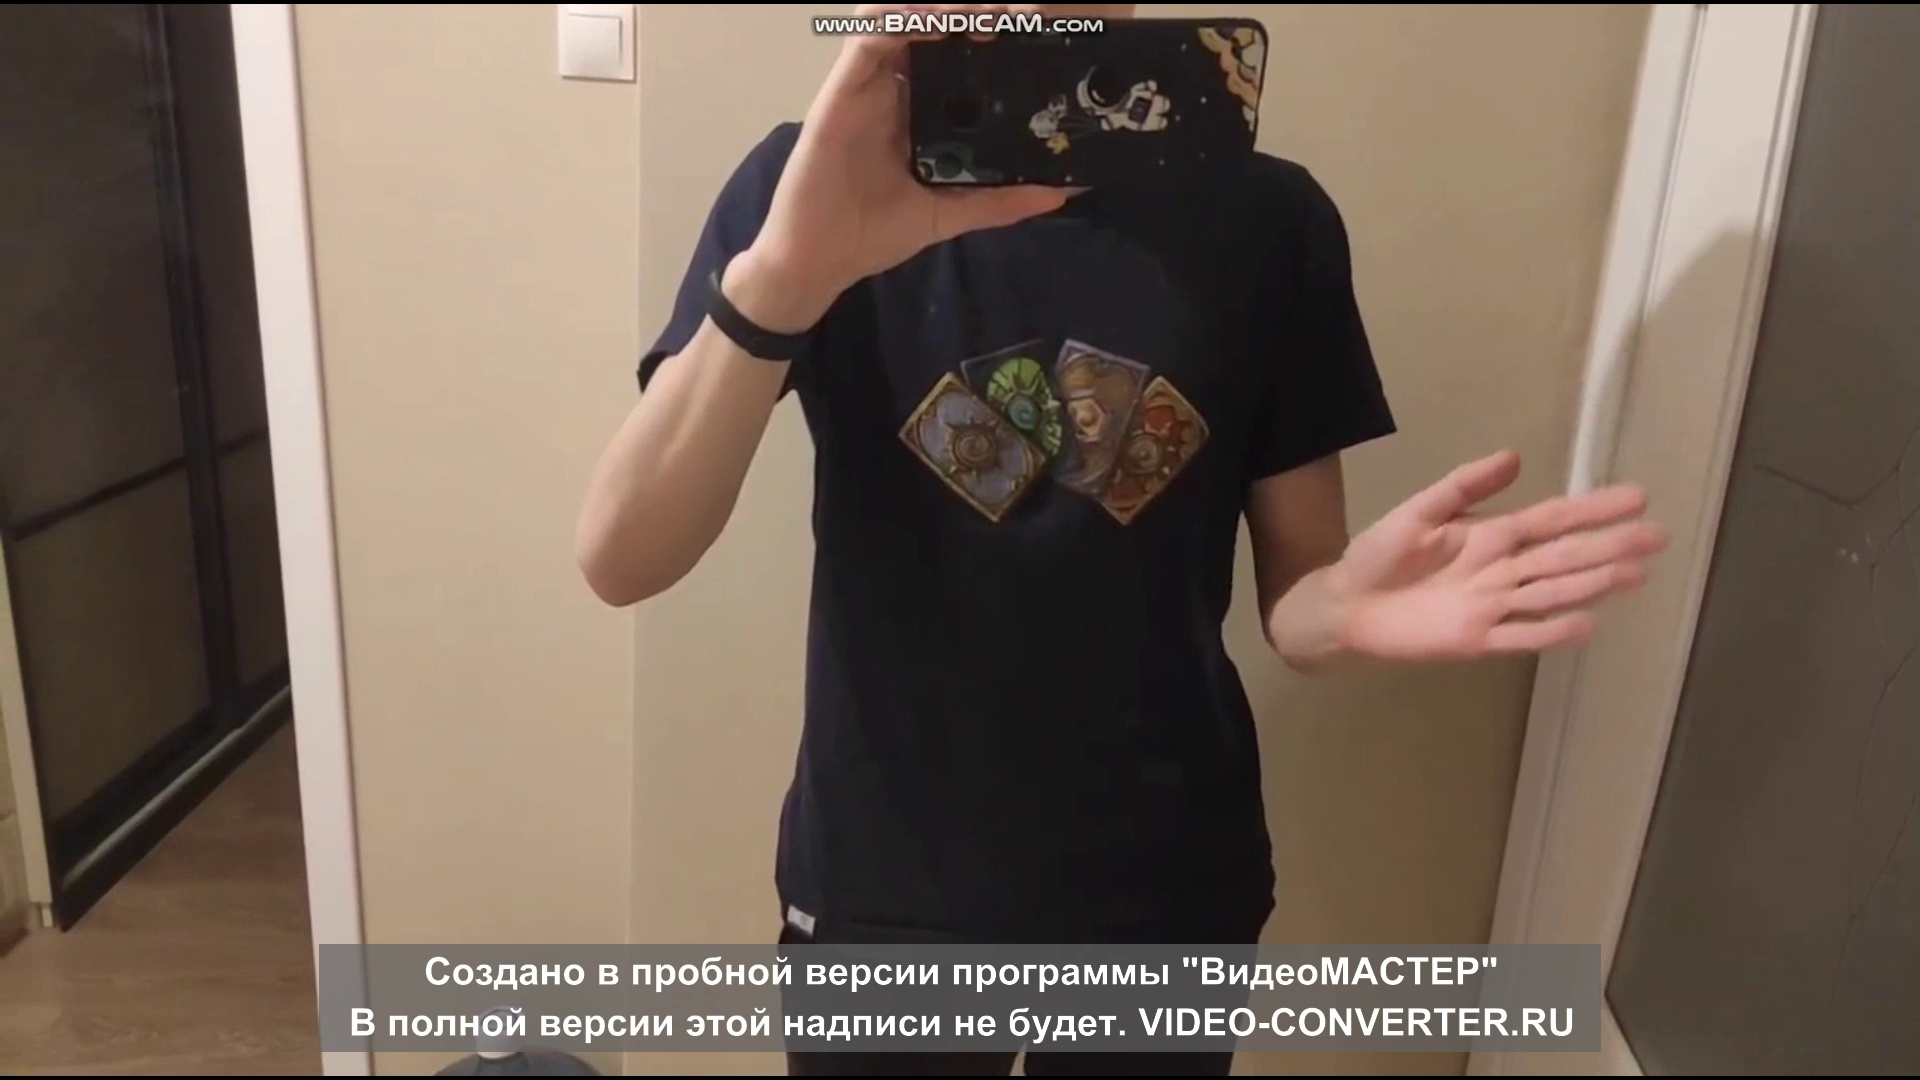Ладонь: (1341, 448, 1671, 655)
